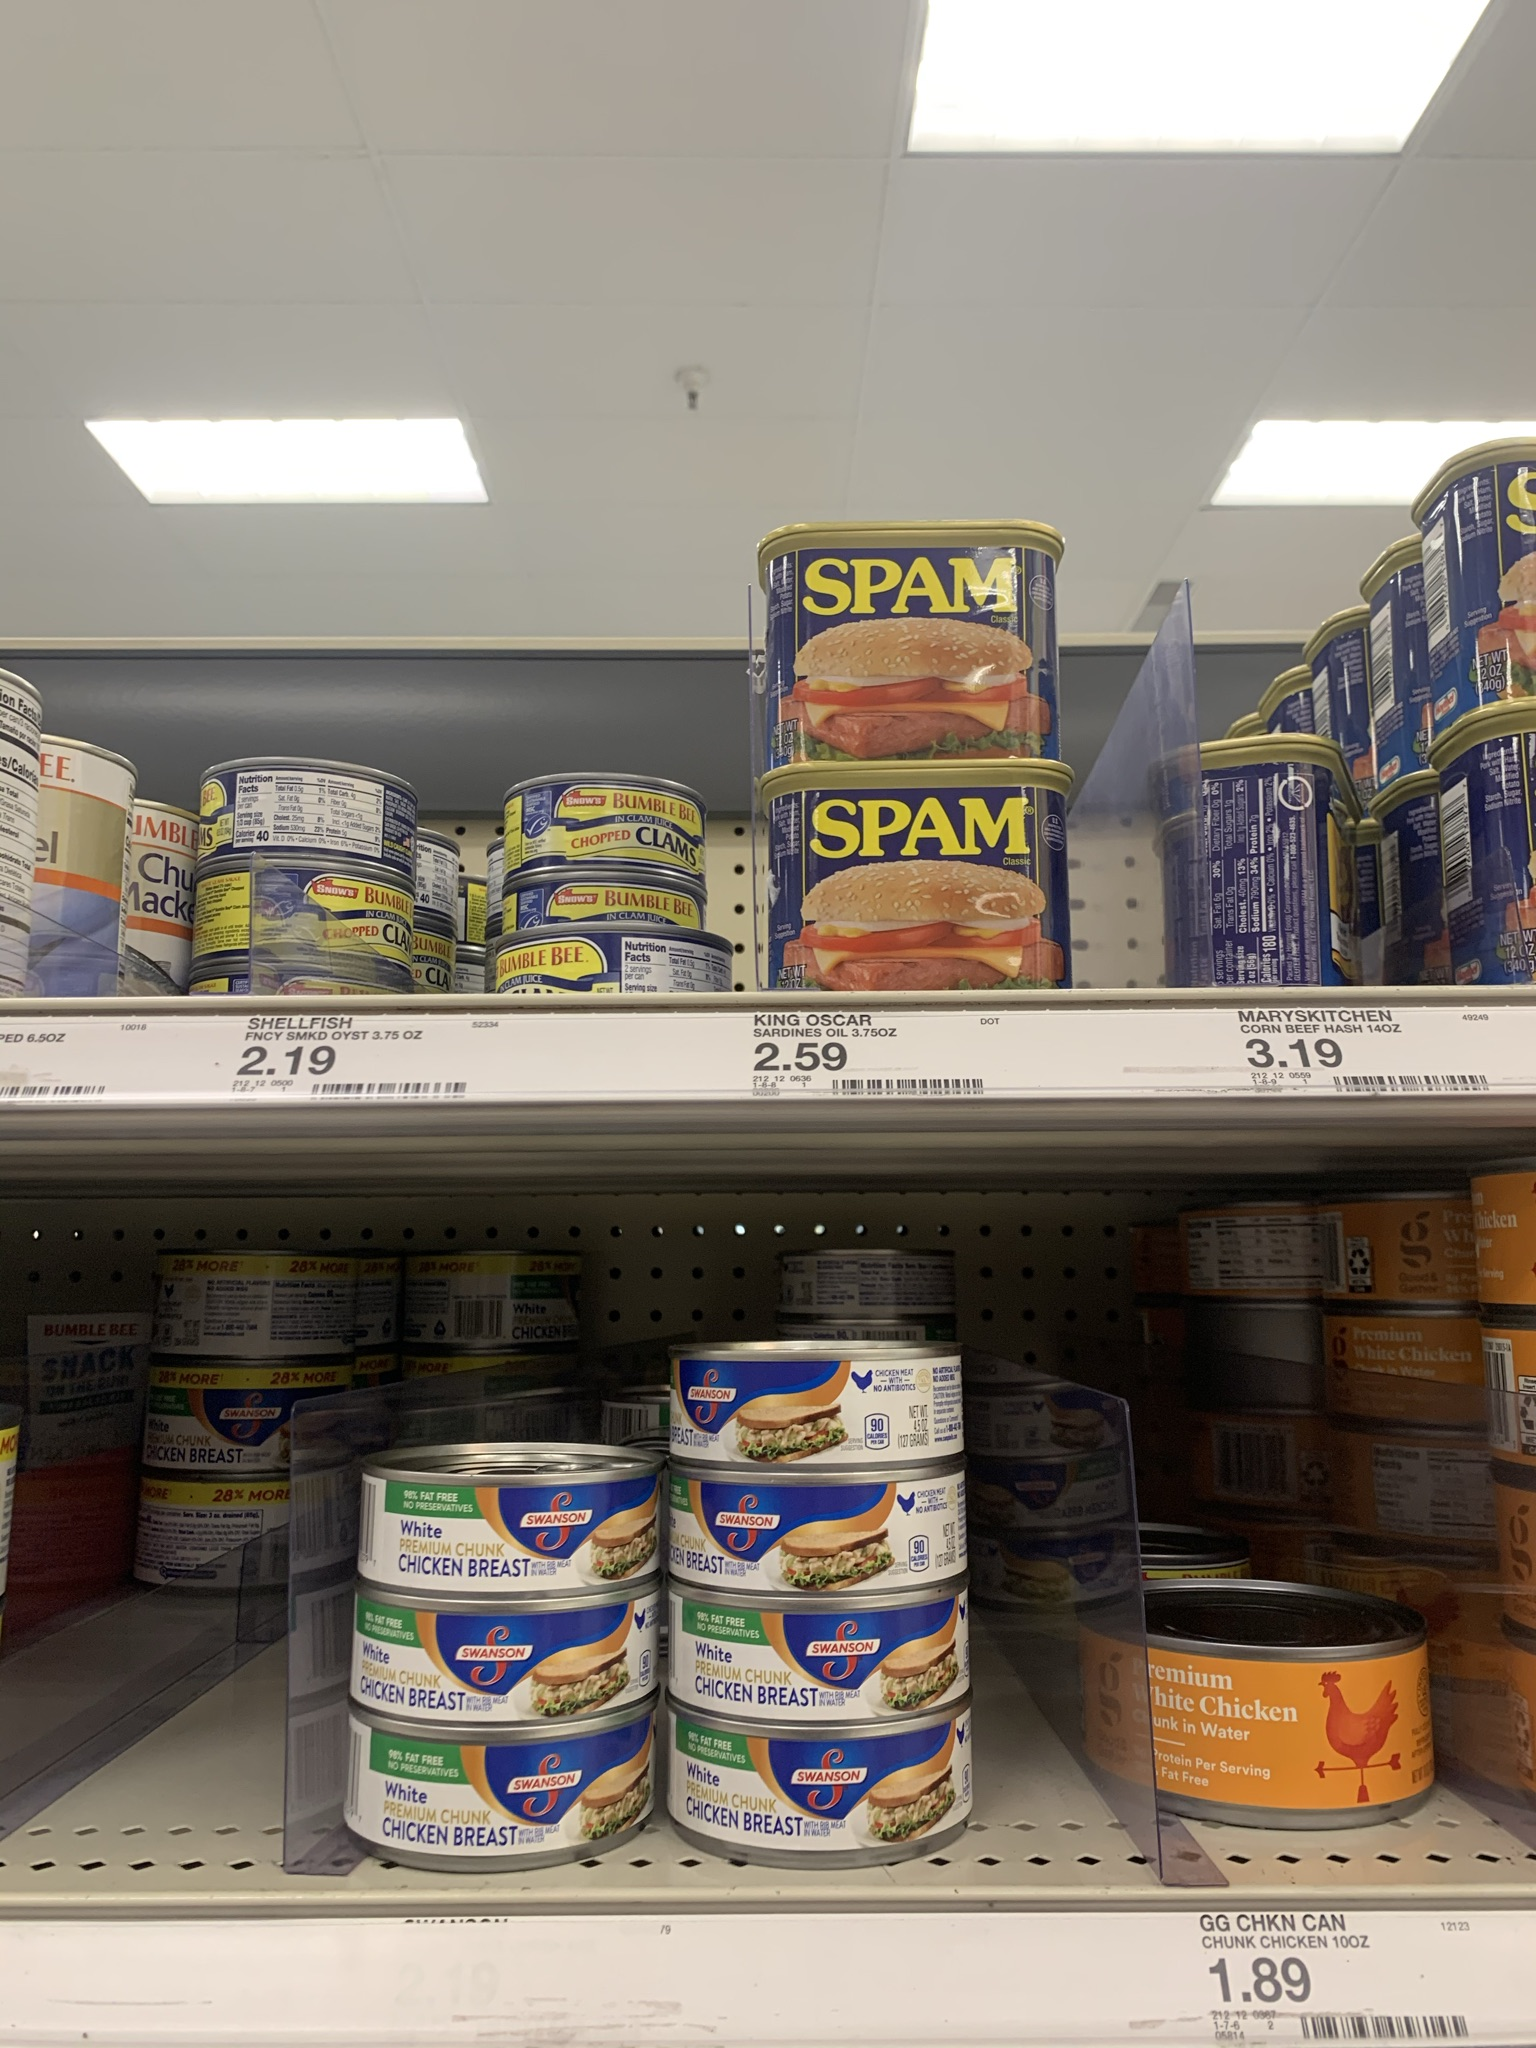can: (763, 524, 1062, 755), (765, 764, 1073, 987), (1150, 1650, 1433, 1830), (653, 1732, 978, 1866), (342, 1463, 662, 1595), (342, 1729, 653, 1863), (663, 1471, 970, 1596), (658, 1601, 973, 1721), (673, 1350, 966, 1476), (350, 1603, 662, 1721), (194, 855, 415, 964), (202, 763, 411, 876), (499, 772, 707, 876), (481, 926, 736, 1001), (481, 877, 716, 934)
